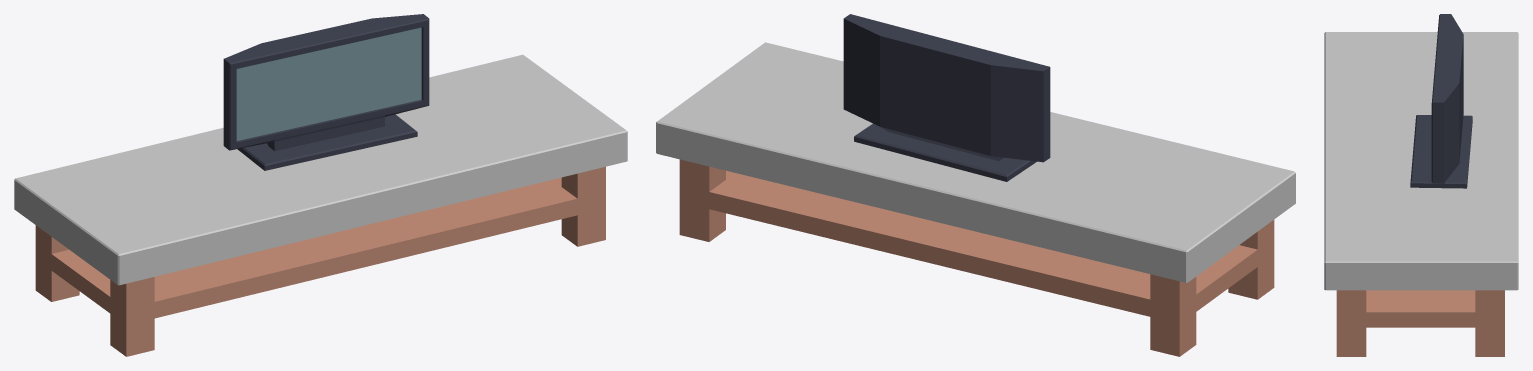
Rendered from sohvapöytä.fbx.
3 views of the same model, side by side, from view 1: azimuth 30°, elevation 25°; view 2: azimuth 150°, elevation 25°; view 3: azimuth 270°, elevation 25° (orthographic). The views are drawn at different scales.
Parts seen in each view (by area): view 1: Sohvapöytä; view 2: Sohvapöytä; view 3: Sohvapöytä.
Boxes of the visible parts, box(x1,y1,x2,y2) form: Sohvapöytä: box(14, 14, 627, 356); Sohvapöytä: box(656, 14, 1295, 356); Sohvapöytä: box(1324, 14, 1518, 356).
Size of the model in its own units: 281 by 113 by 100.
